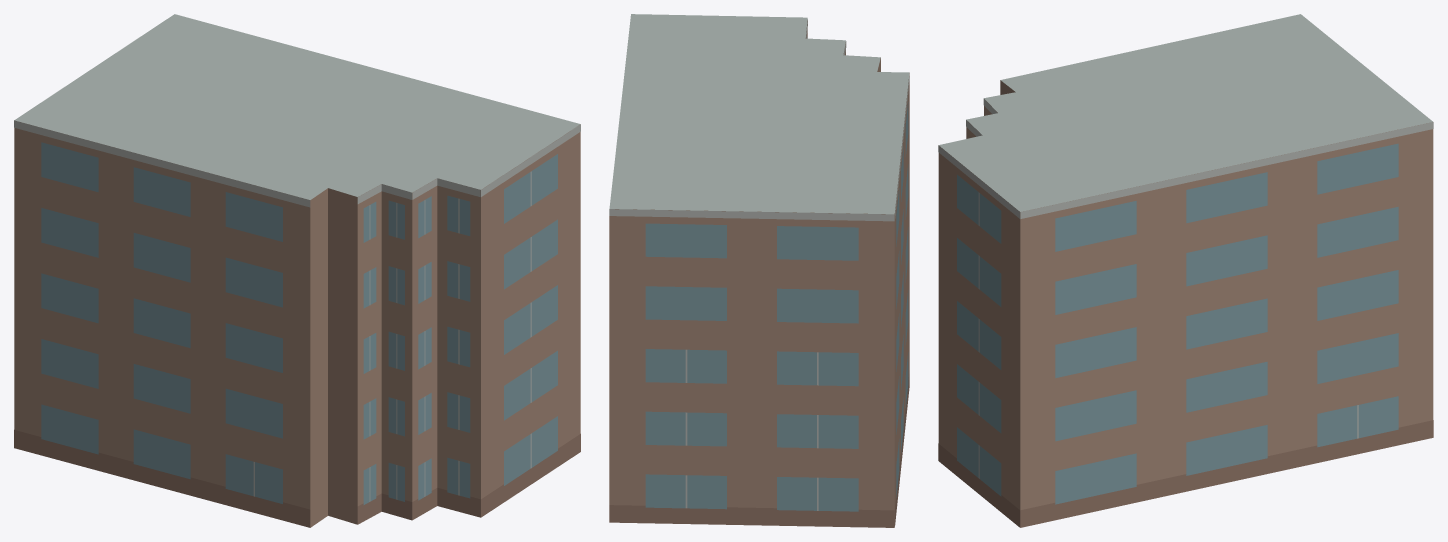
The model's file is survey-upis-32840689.glb.
3 views of the same model, side by side, from view 1: azimuth 30°, elevation 25°; view 2: azimuth 150°, elevation 25°; view 3: azimuth 270°, elevation 25° (orthographic). The views are drawn at different scales.
Parts seen in each view (by area): view 1: survey-upis-32840689.tmp; view 2: survey-upis-32840689.tmp; view 3: survey-upis-32840689.tmp.
Boxes of the visible parts, x1=… form: survey-upis-32840689.tmp: x1=14, y1=14, x2=580, y2=527; survey-upis-32840689.tmp: x1=609, y1=14, x2=909, y2=527; survey-upis-32840689.tmp: x1=938, y1=14, x2=1433, y2=527.
Size of the model in its own units: 14.53 by 10.8 by 15.35.
